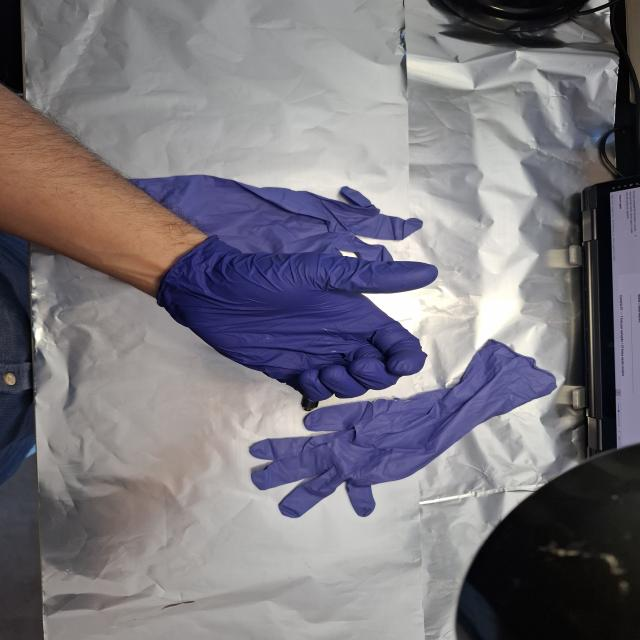glove_on: (147, 242, 442, 402)
